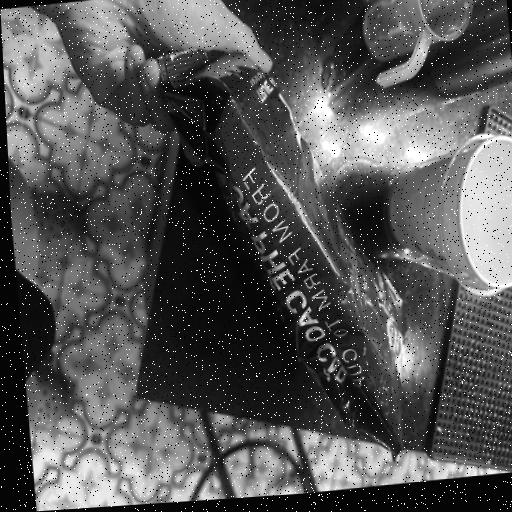cafe_hat: (133, 0, 426, 489)
